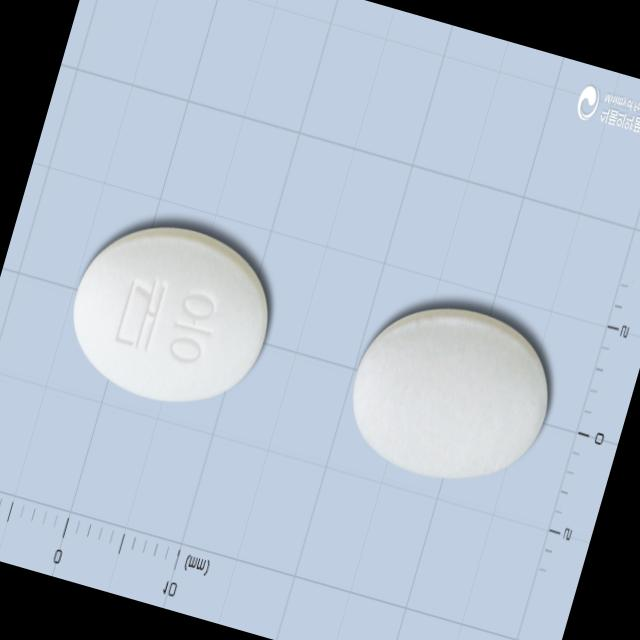Moxicle Tab-625mg: (54, 204, 286, 428)
